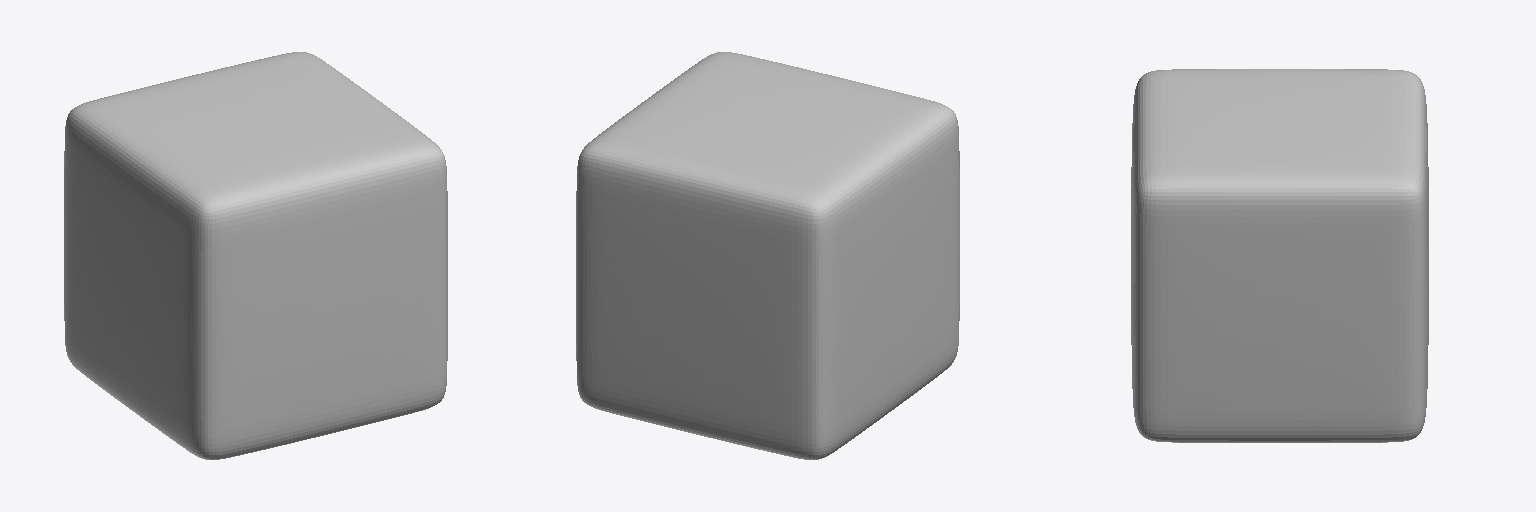
The model's file is die.obj.
3 renders of one model, left to right at view 1: azimuth 30°, elevation 25°; view 2: azimuth 150°, elevation 25°; view 3: azimuth 270°, elevation 25°, orthographic.
Visible parts, largest first — view 1: Cube.004_Cube.017; view 2: Cube.004_Cube.017; view 3: Cube.004_Cube.017.
Boxes of the visible parts, x1,y1,x2,y2 form: Cube.004_Cube.017: [64, 52, 447, 459]; Cube.004_Cube.017: [576, 52, 959, 459]; Cube.004_Cube.017: [1131, 69, 1428, 442].
Size of the model in its own units: 1.99 by 1.99 by 1.99.